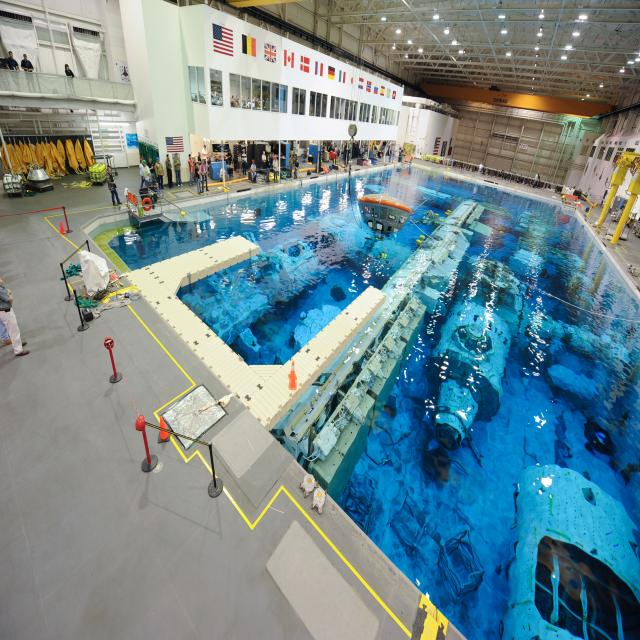Orange_colored_life-ring: (141, 196, 153, 212)
Orion_capsule_mockup_(WEST)_located_on_far_end_of_pool: (357, 192, 412, 242)
